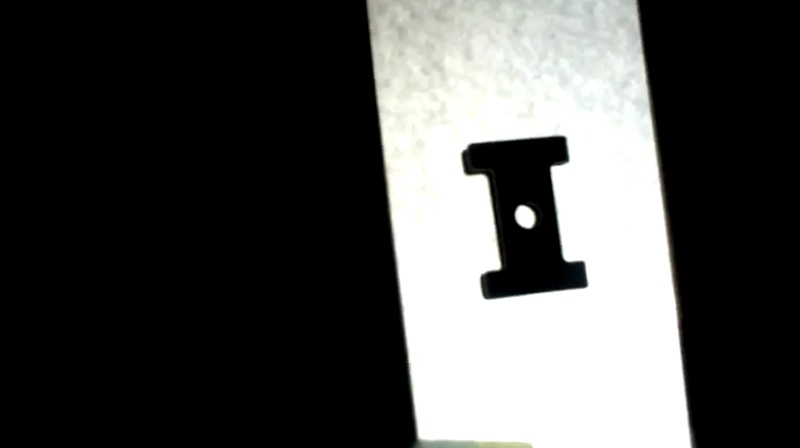O002: (460, 131, 593, 302)
